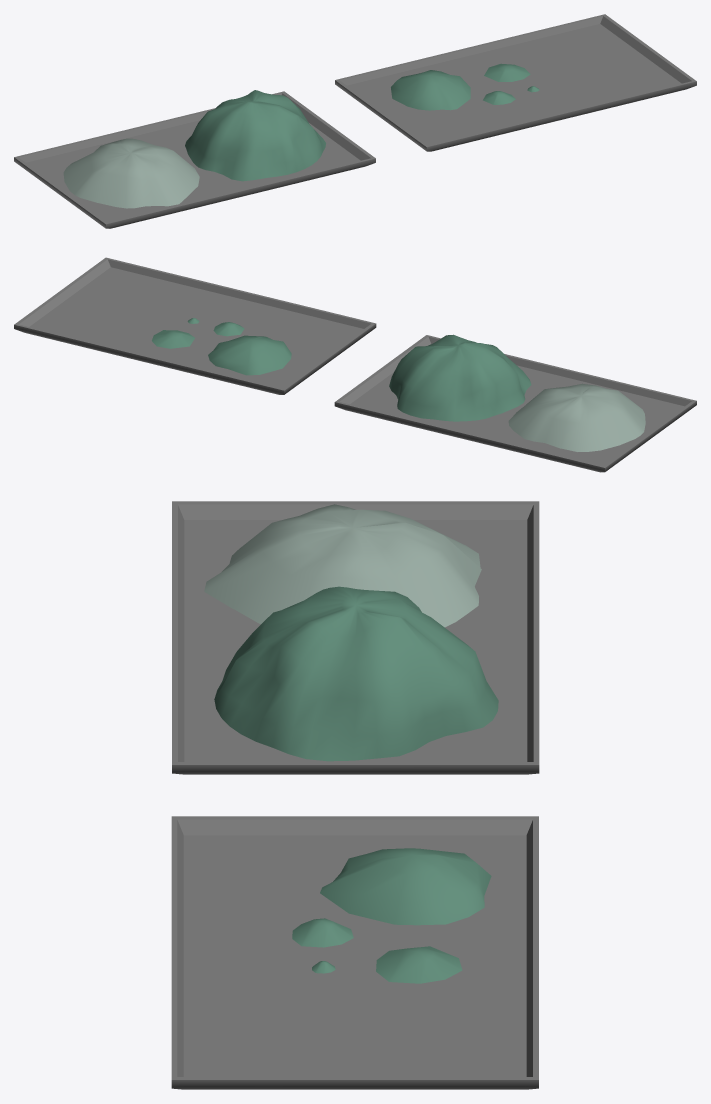
Rendered from Bandejas.fbx.
The picture shows the model from 3 angles, top to bottom: view 1: azimuth 30°, elevation 25°; view 2: azimuth 150°, elevation 25°; view 3: azimuth 270°, elevation 25°; orthographic projection. The views are drawn at different scales.
Visible parts, largest first — view 1: pSphere7, pCube3; view 2: pSphere7, pCube3; view 3: pCube3, pSphere7.
Part boxes in pixels (<box>): pSphere7: <box>14,90,375,228</box>; pCube3: <box>335,14,696,151</box>; pSphere7: <box>334,334,696,472</box>; pCube3: <box>14,257,376,394</box>; pCube3: <box>171,816,538,1089</box>; pSphere7: <box>172,501,539,774</box>.
Bounding box in the file's own units: 8.91 × 0.7711 × 2.4.
